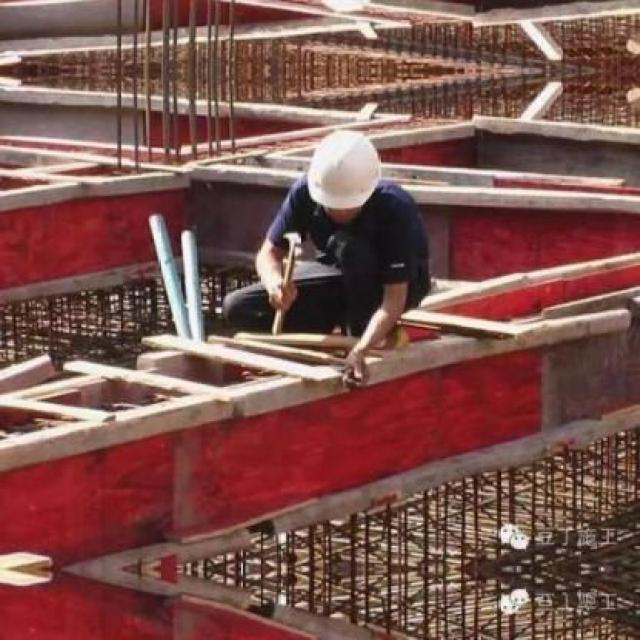helmet: (302, 120, 380, 213)
